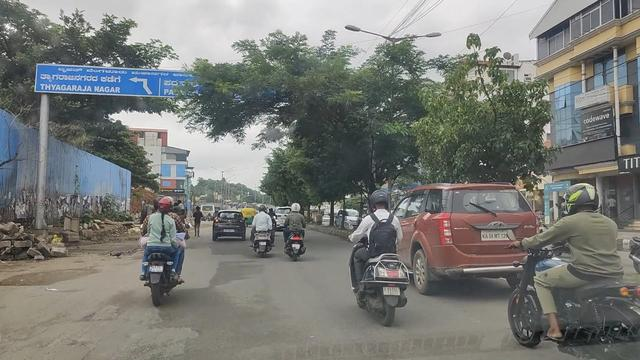LMV: (521, 194, 640, 359), (421, 184, 526, 288), (352, 189, 402, 326), (148, 197, 182, 296), (283, 201, 308, 258), (252, 204, 273, 255), (214, 209, 241, 242)
RoadDamages: (2, 312, 84, 360), (141, 313, 207, 360), (7, 266, 103, 287), (88, 288, 130, 327)
